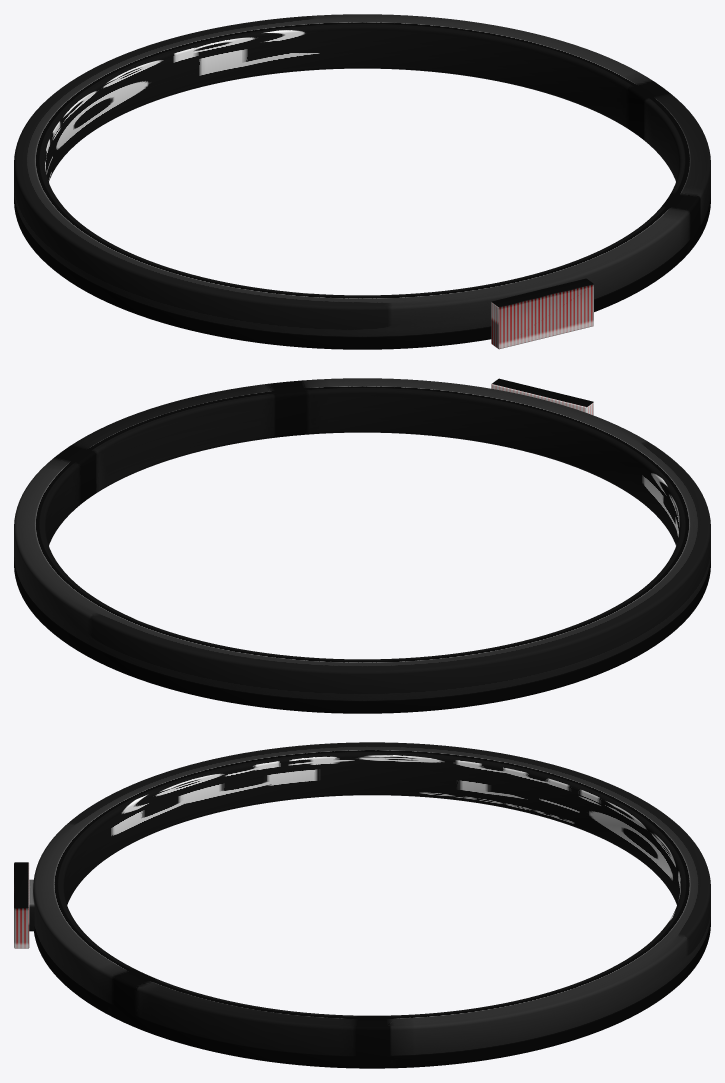
File: 11-scalering-10cm.dae
3 renders of one model, top to bottom at view 1: azimuth 30°, elevation 25°; view 2: azimuth 150°, elevation 25°; view 3: azimuth 270°, elevation 25°, orthographic. The views are drawn at different scales.
Parts seen in each view (by area): view 1: scalering.1, screen.1; view 2: scalering.1, screen.1; view 3: scalering.1, screen.1.
Part boxes in pixels (x1=…): scalering.1: x1=14, y1=14, x2=710, y2=349; screen.1: x1=491, y1=278, x2=593, y2=349; scalering.1: x1=14, y1=378, x2=710, y2=713; screen.1: x1=491, y1=378, x2=593, y2=415; scalering.1: x1=33, y1=742, x2=710, y2=1068; screen.1: x1=14, y1=862, x2=29, y2=948.
Size of the model in its own units: 11 by 0.75 by 11.31.
3 materials, 3 textured.
